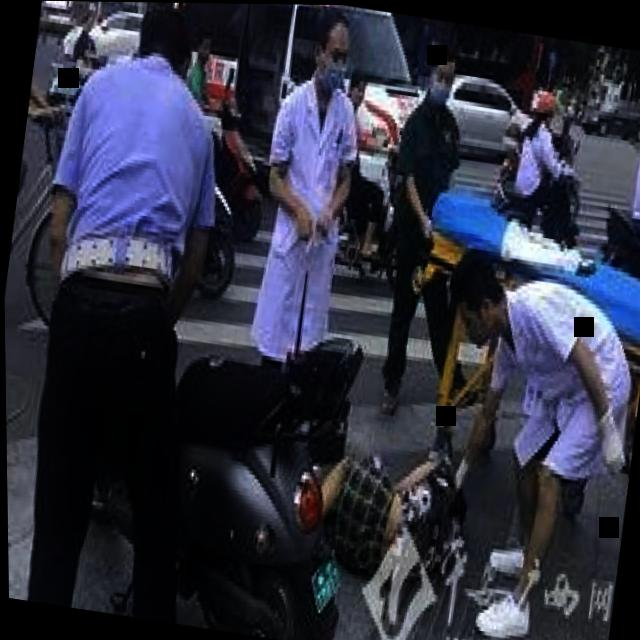Fall-Detected: (280, 398, 469, 592)
